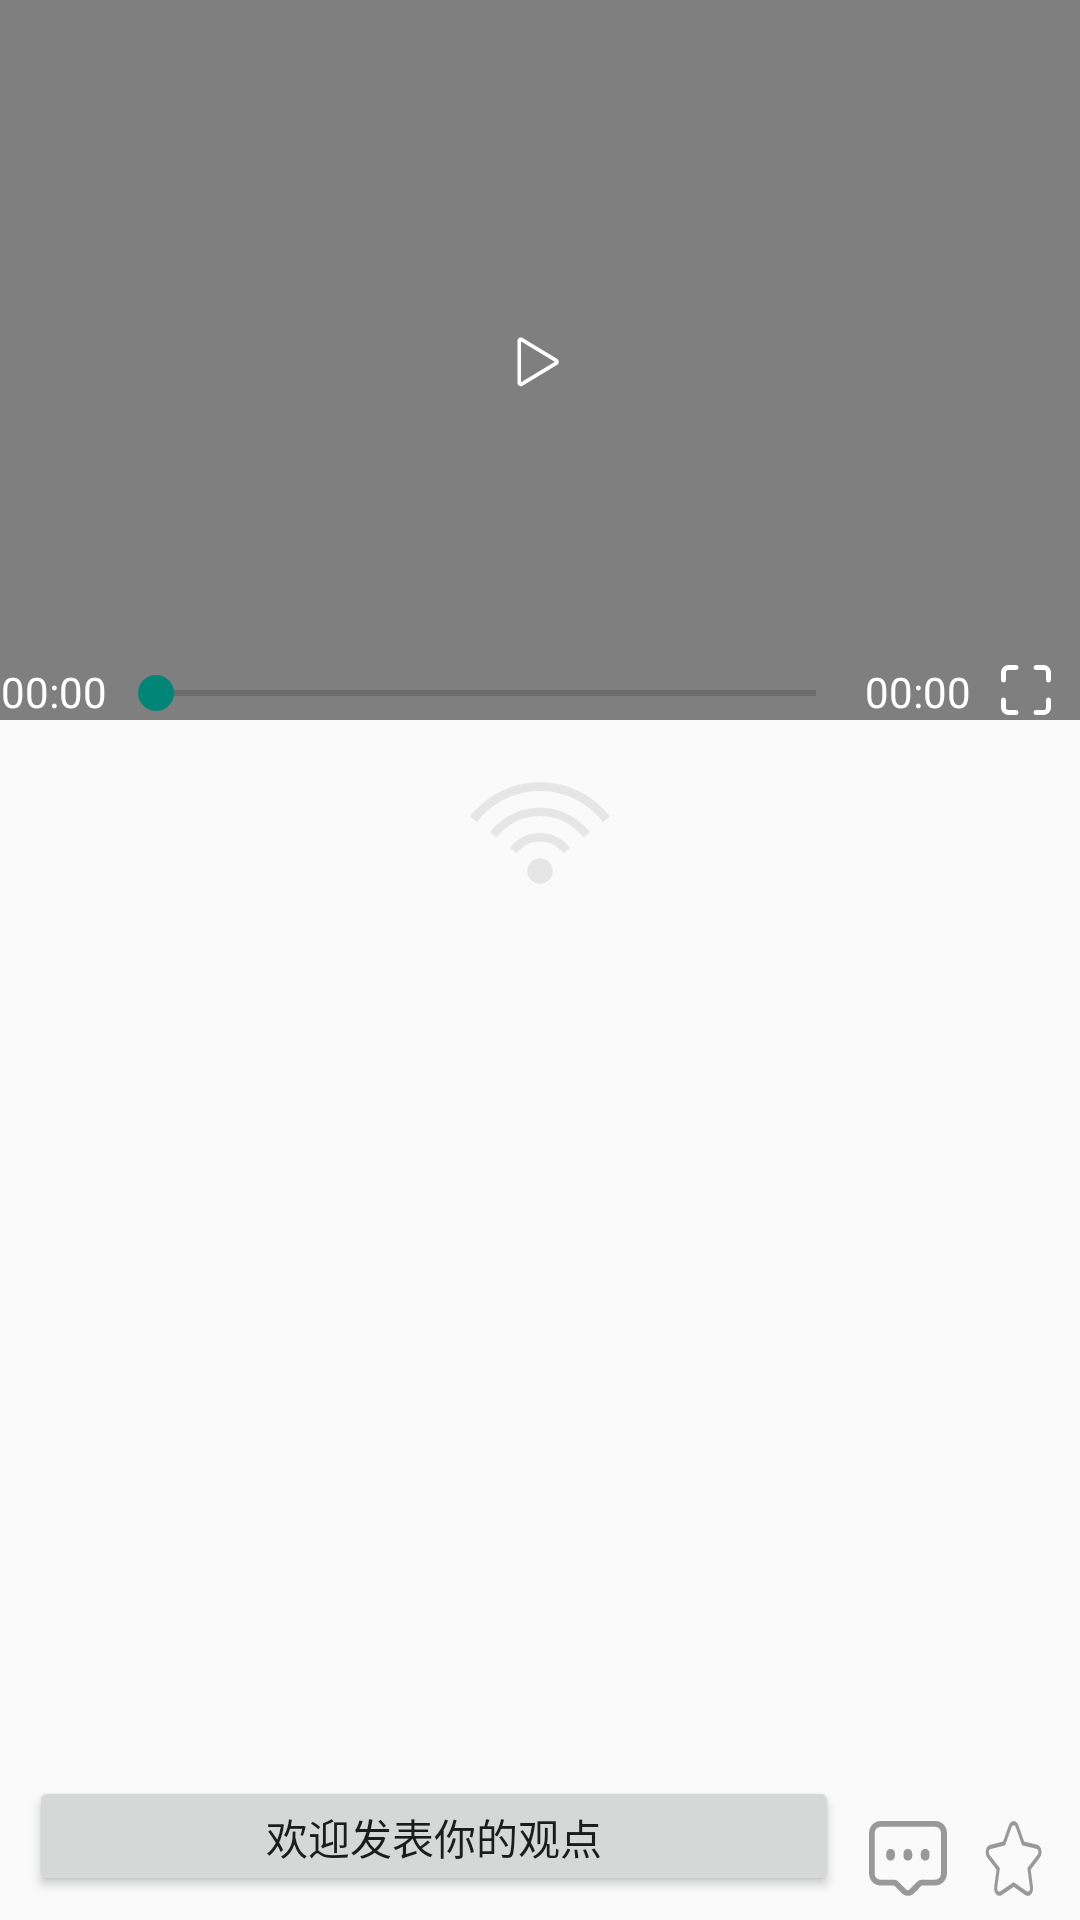

Where to tap for icons on this 1080 × 1920 app screen, as [x,y]:
collect: [1013,1858]
comment: [908,1858]
full screen: [1026,690]
play: [538,362]
